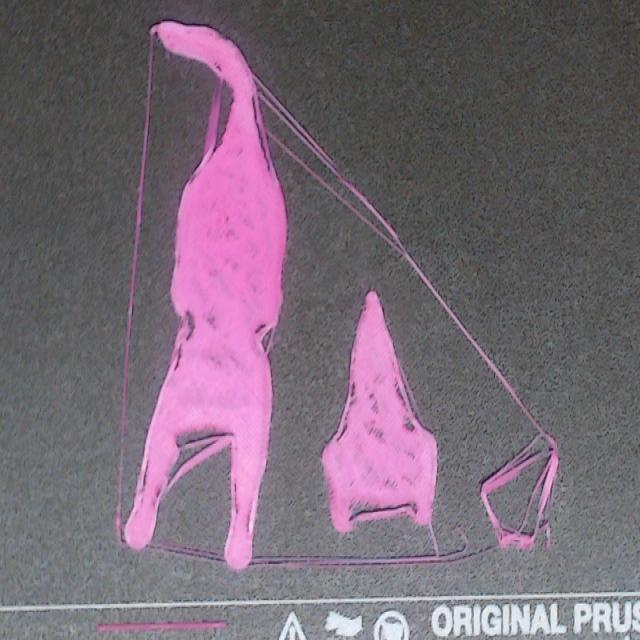mistake: (253, 73, 558, 548), (125, 21, 287, 568), (322, 291, 436, 532)
